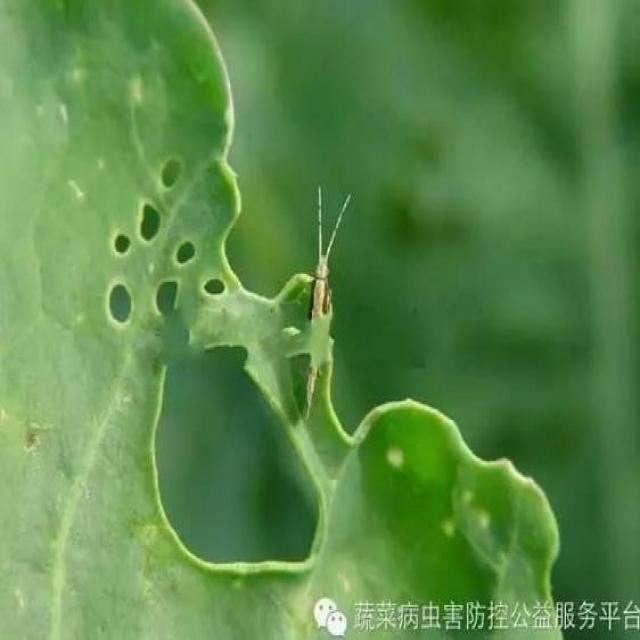armyworm: (297, 182, 347, 420)
